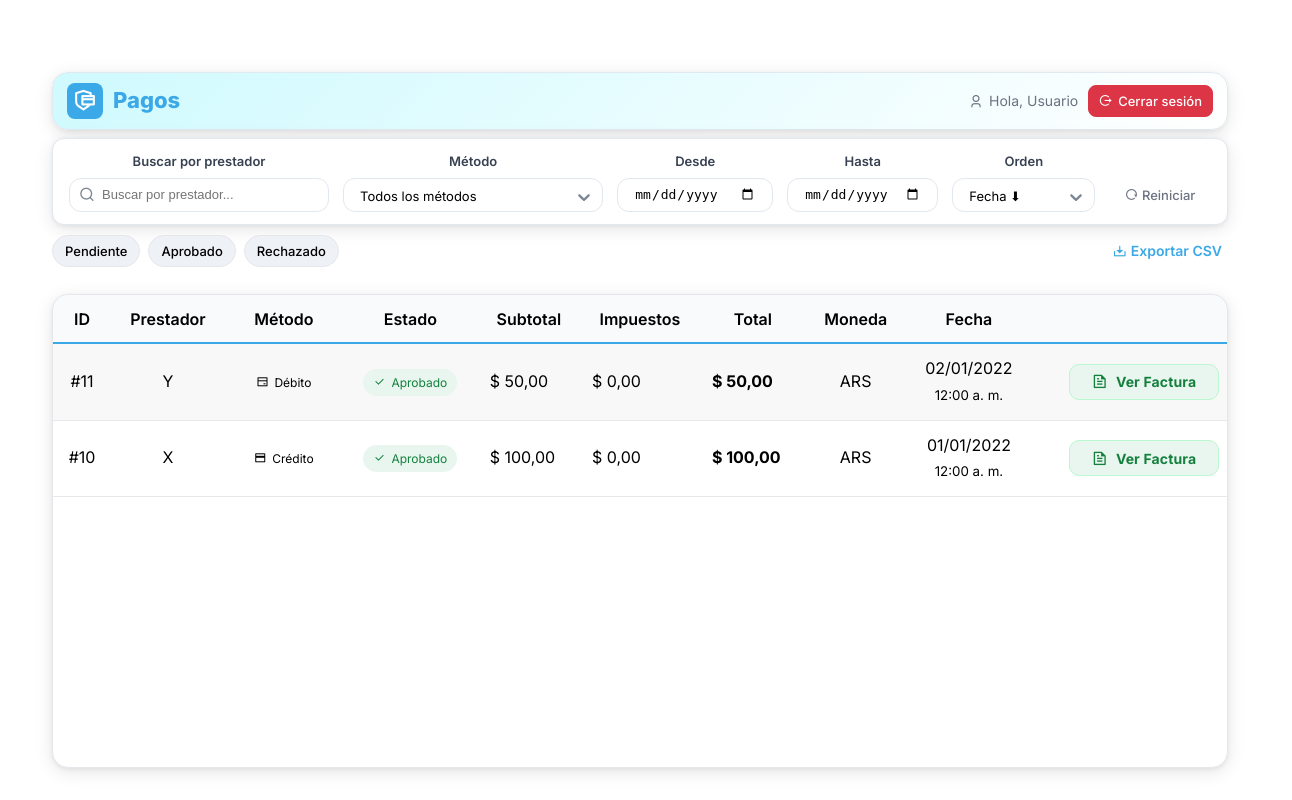
Test: PagosLista extra branches › Metodo select filters by Tarjeta crédito
The width and height of the screenshot is (1292, 800).
expect the text "#10" is shown: met, box [53,420,111,496]
Press the mouse on the text "Todos los métodos" at (418, 197), box [360,190,476,203]
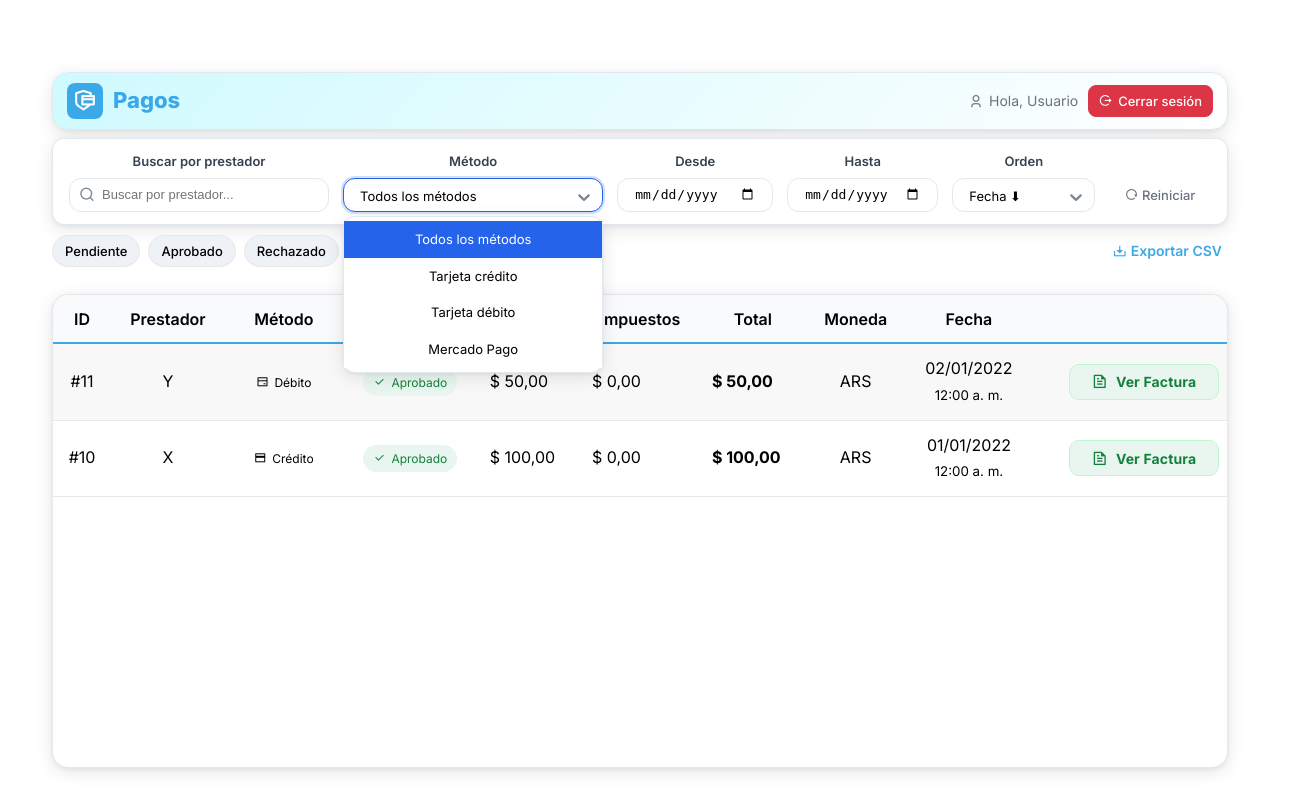
Click the option "Tarjeta crédito" at (473, 276), box [344,258,602,294]
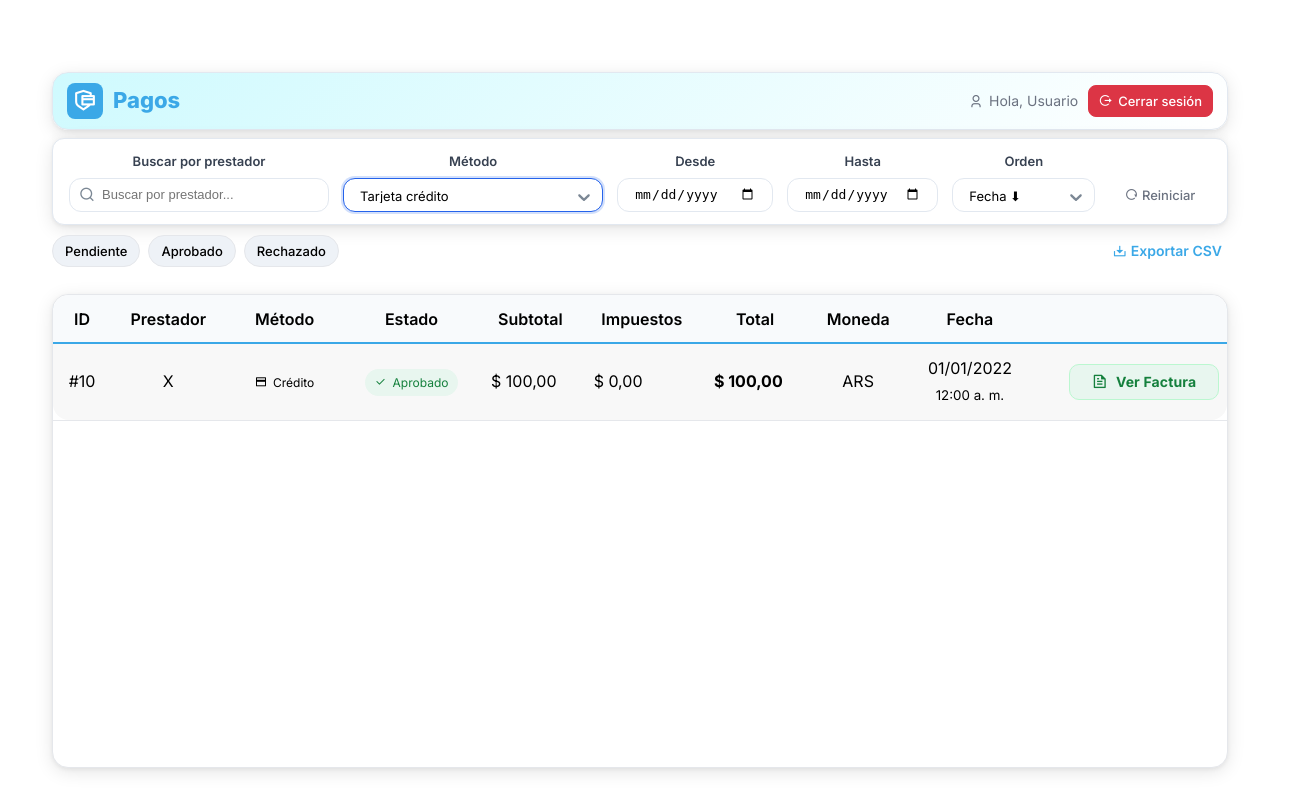
expect the text "#10" is shown: met, box [53,344,111,420]
expect the text "#11" is gone: met
